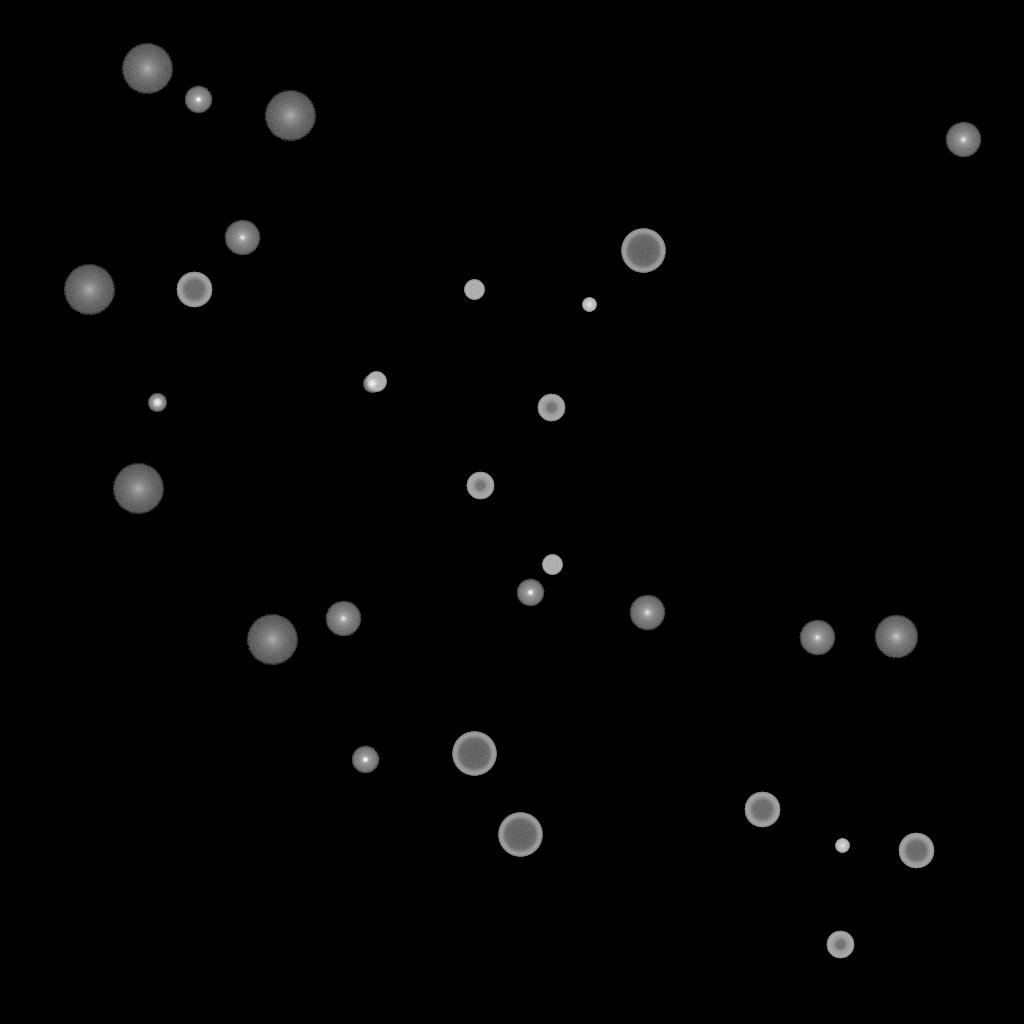depth:-10: (351, 746, 379, 774), (516, 579, 544, 607), (184, 86, 212, 114)
depth:-20: (148, 394, 166, 412), (363, 375, 381, 393)
depth:-30: (582, 298, 596, 312), (835, 839, 849, 853)
depth:-40: (542, 555, 562, 575), (464, 280, 484, 300), (366, 372, 386, 392)
depth:-50: (466, 472, 494, 500), (537, 394, 565, 422), (826, 931, 854, 959)
depth:-60: (744, 792, 780, 828), (898, 833, 934, 869), (176, 272, 212, 308)
depth:-70: (498, 813, 542, 857), (621, 229, 665, 273), (452, 732, 496, 776)
depth:0: (799, 620, 835, 656), (629, 595, 665, 631), (325, 601, 361, 637), (945, 122, 981, 158), (224, 220, 260, 256)
depth:10: (874, 615, 918, 659)
depth:20: (121, 44, 173, 94), (112, 464, 164, 514), (264, 91, 316, 141), (63, 265, 115, 315), (246, 615, 298, 665)
